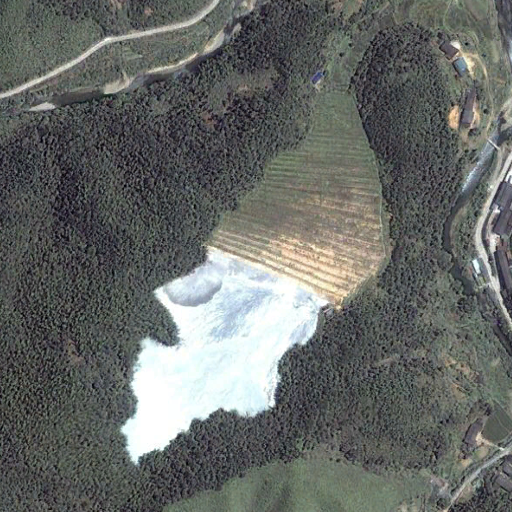tp: (122, 92, 392, 466)
